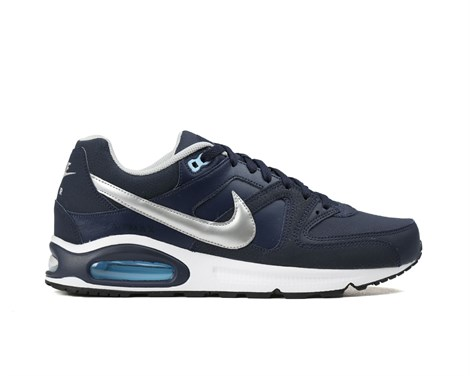nike: (87, 171, 259, 253)
